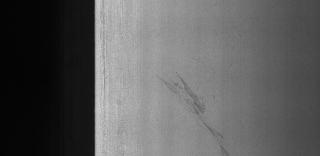water spot: (154, 66, 244, 156)
